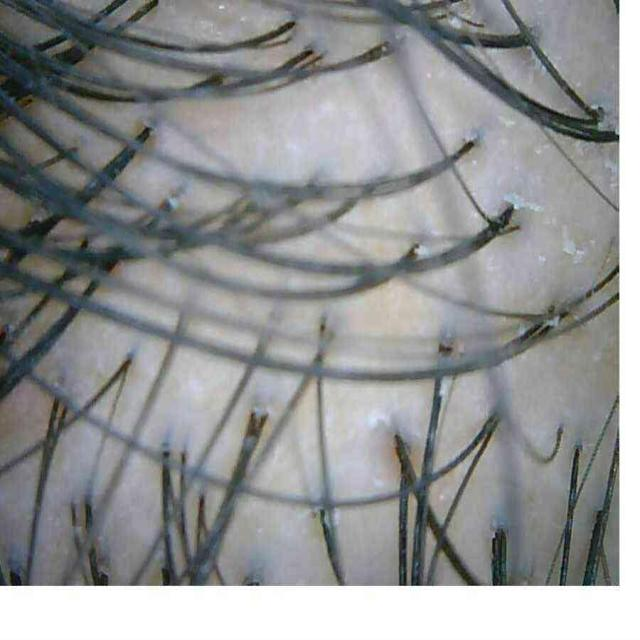d: (502, 192, 546, 212), (602, 147, 619, 194), (561, 225, 576, 254)
